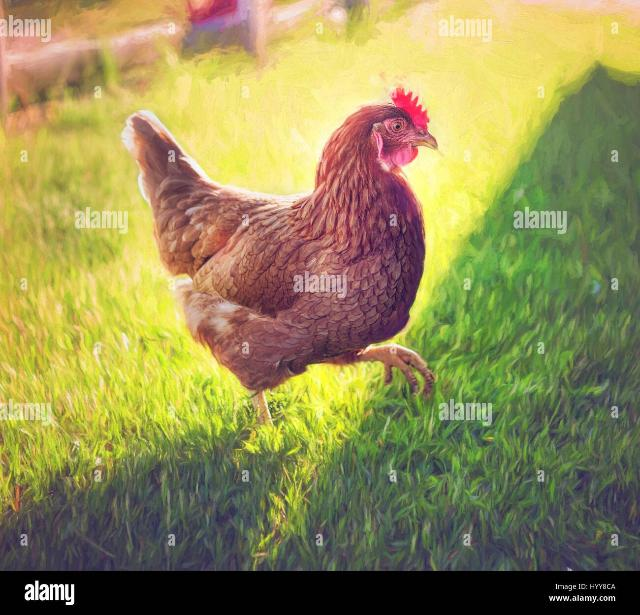Chicken: (121, 86, 440, 426)
